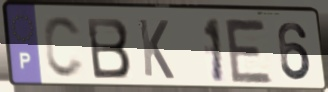1: (201, 16, 229, 85)
6: (275, 20, 313, 82)
B: (84, 16, 133, 81)
C: (42, 14, 87, 82)
E: (222, 15, 275, 85)
K: (136, 16, 176, 82)
